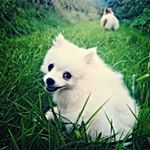puppy: (37, 31, 99, 100)
